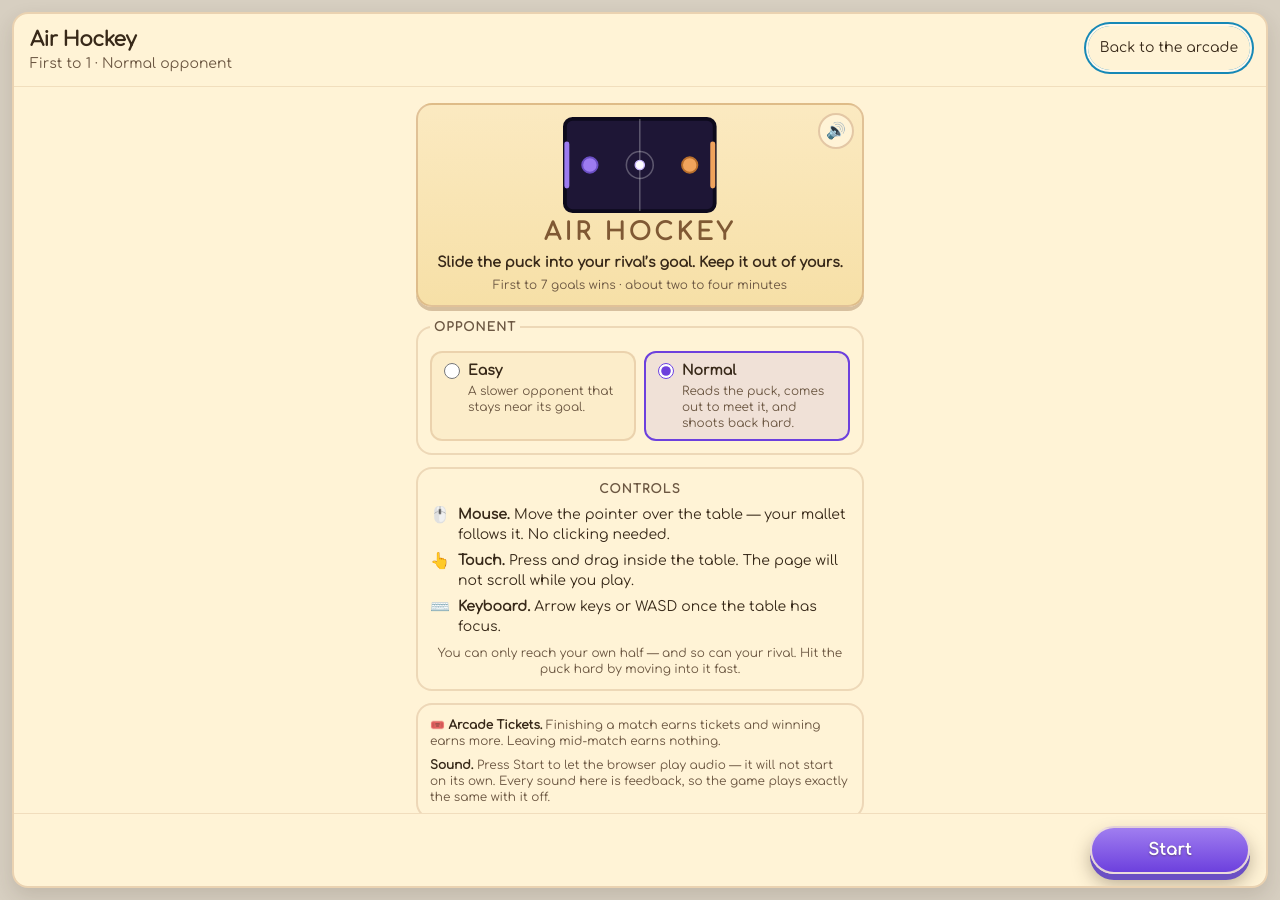
Test: finishing a match › plays a real match through to a result
Click the button "Start". click: (1170,850)
box: [1090, 826, 1250, 874]
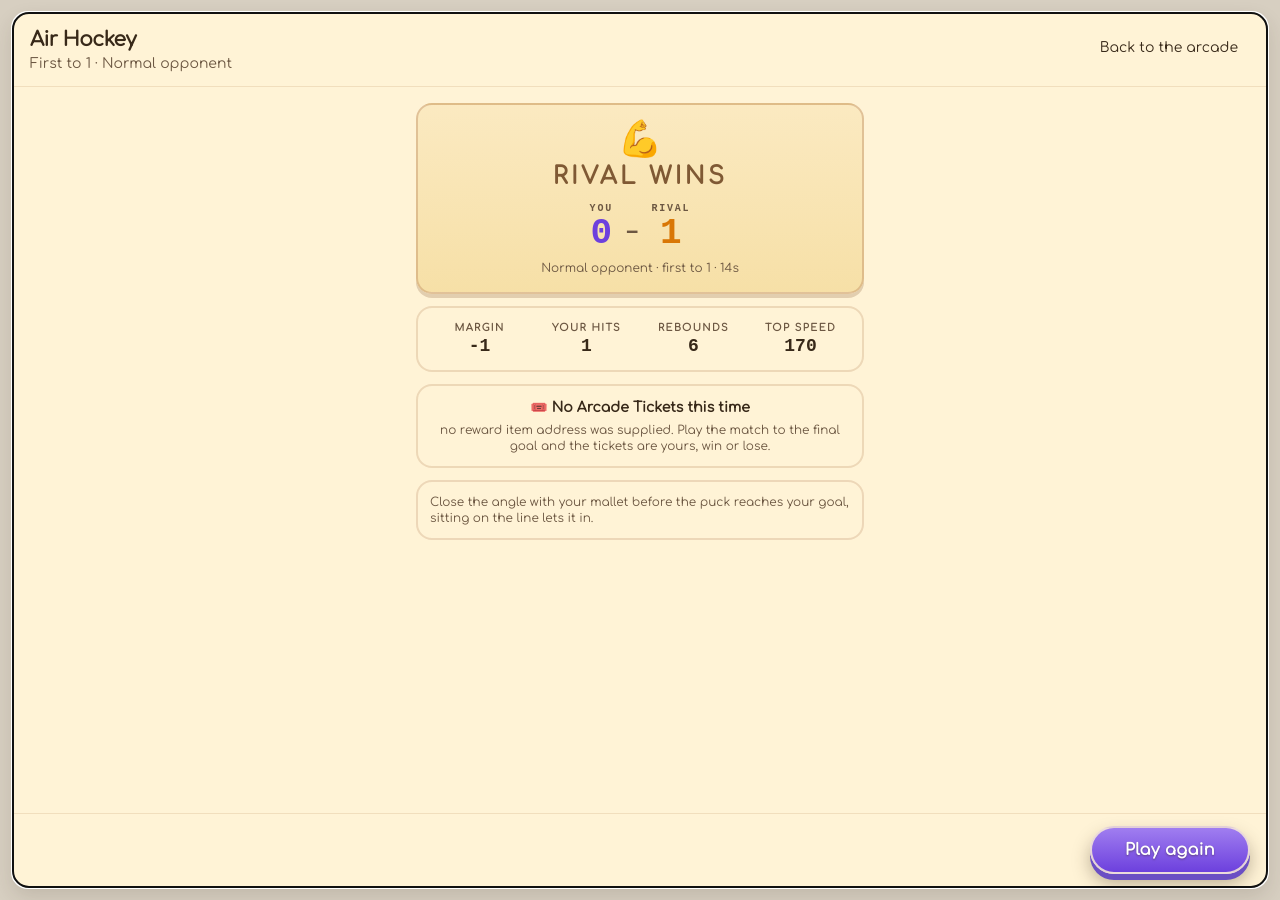
Check: the element that starts with "Rival wins" shows "💪 Rival wins You 0 – Rival 1 Normal opponent · first to 1 · 14s Margin -1 Your", box [553, 163, 727, 190]
